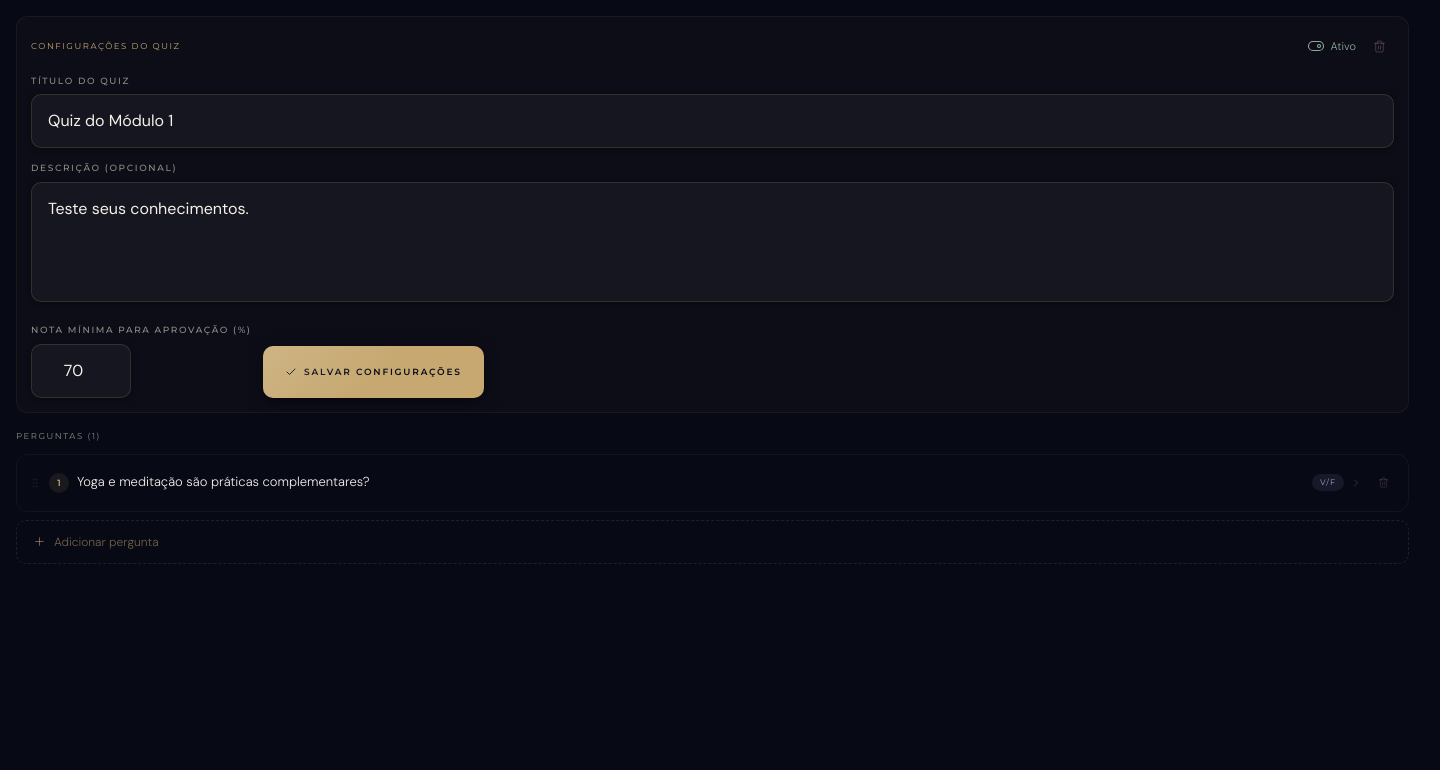
Test: QuizEditor — options management › true_false questions do NOT show delete-option buttons
The width and height of the screenshot is (1440, 770).
Expected: the text "Yoga e meditação são práticas complementares?" is shown, x1=77 y1=473 x2=370 y2=490
Click the button with aria-label "expandir pergunta 1" at (223, 482), box x1=77 y1=464 x2=1362 y2=500
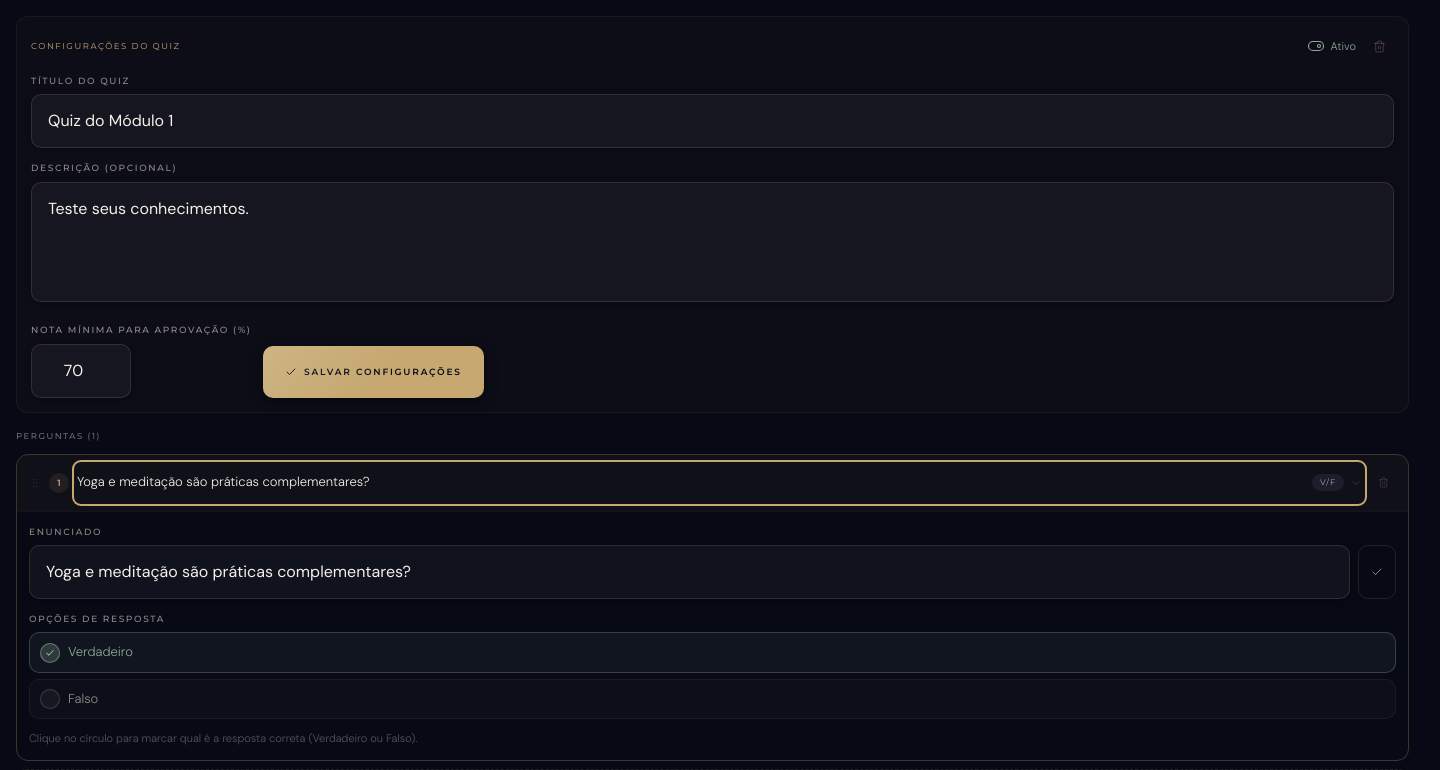
Now the text "Verdadeiro" is shown, box x1=68 y1=644 x2=133 y2=660
